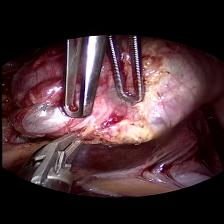Clipper: (22, 128, 84, 196)
Grasper: (54, 34, 144, 120)
